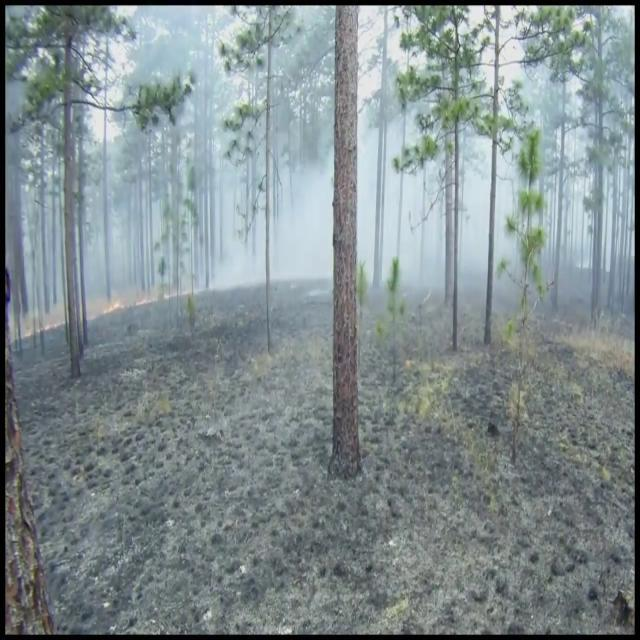Smoke: (35, 10, 588, 318)
